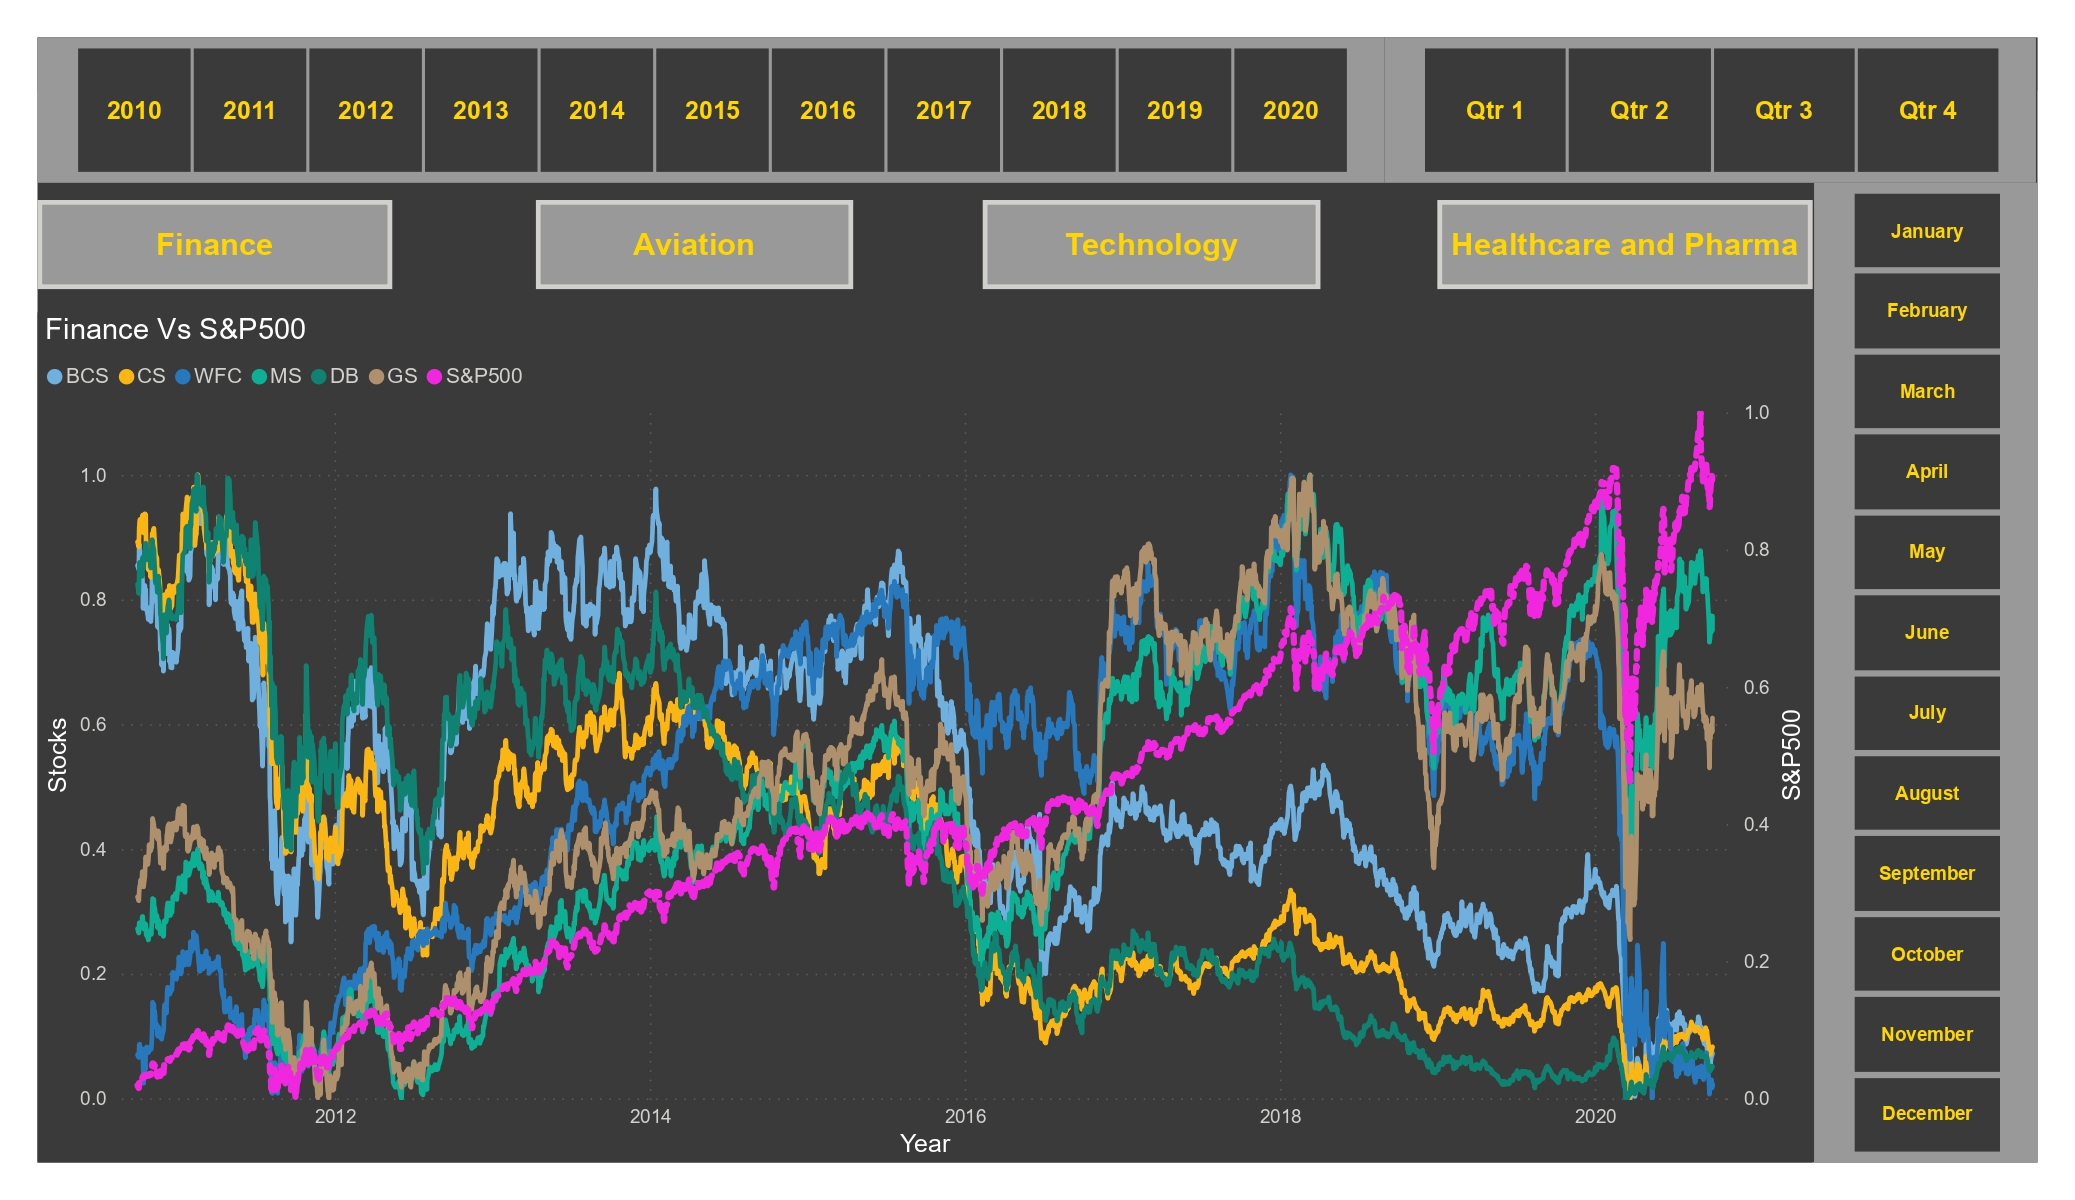

This screenshot's page, from the dashboard's own definition file:
{"tool":"powerbi","page":{"name":"5 Years","canvas":[1280,720],"ordinal":0},"visuals":[{"type":"lineChart","title":"Finance Vs S&P500","fields":{"Y":["Avg(normalized_5_Years_data.BCS)","Avg(normalized_5_Years_data.CS)","Avg(normalized_5_Years_data.WFC)","Avg(normalized_5_Years_data.MS)","Avg(normalized_5_Years_data.DB)","Avg(normalized_5_Years_data.GS)"],"Category":["normalized_5_Years_data.Date.Variation.Date Hierarchy.Year","normalized_5_Years_data.Date.Variation.Date Hierarchy.Quarter","normalized_5_Years_data.Date.Variation.Date Hierarchy.Month","normalized_5_Years_data.Date.Variation.Date Hierarchy.Day"],"Y2":["Avg(normalized_5_Years_data.S&P500)"]},"box":[0,175.8,1135.8,545.4],"z":1000},{"type":"slicer","title":"Year Slicer","fields":{"Values":["normalized_5_Years_data.Date.Variation.Date Hierarchy.Year"]},"box":[0,0,861.5,92.9],"z":4000},{"type":"slicer","title":"Month Slicer","fields":{"Values":["normalized_5_Years_data.Date.Variation.Date Hierarchy.Month"]},"box":[1137.1,92.9,142.9,627.1],"z":5000},{"type":"slicer","title":"Quarter Slicer","fields":{"Values":["normalized_5_Years_data.Date.Variation.Date Hierarchy.Quarter"]},"box":[861.5,0,417.6,92.9],"z":6000},{"type":"actionButton","title":"Aviation Button","box":[319.1,104,202.5,56.9],"z":7000},{"type":"actionButton","title":"Technology Button","box":[604.9,104,216.4,56.9],"z":8000},{"type":"actionButton","title":"Finance Button","box":[0,103.8,226.9,56.9],"z":9000},{"type":"actionButton","title":"Healthcare and Pharma Button","box":[896.2,104,240,56.9],"z":10000}]}

Visuals, with their boxes on the page's 1280x720 design canvas (x1, y1, x2, y2). These are canvas units, not pixel positions in the 2075x1200 screenshot, which may show the page scaled, cropped or inside an application window:
"Finance Vs S&P500" lineChart: Rect(0, 176, 1136, 721)
"Year Slicer" slicer: Rect(0, 0, 862, 93)
"Month Slicer" slicer: Rect(1137, 93, 1280, 720)
"Quarter Slicer" slicer: Rect(862, 0, 1279, 93)
"Aviation Button" actionButton: Rect(319, 104, 522, 161)
"Technology Button" actionButton: Rect(605, 104, 821, 161)
"Finance Button" actionButton: Rect(0, 104, 227, 161)
"Healthcare and Pharma Button" actionButton: Rect(896, 104, 1136, 161)
